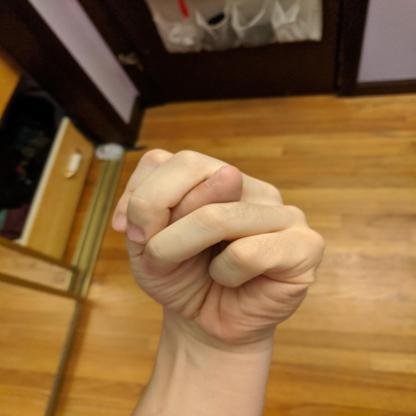N: (111, 149, 325, 345)
